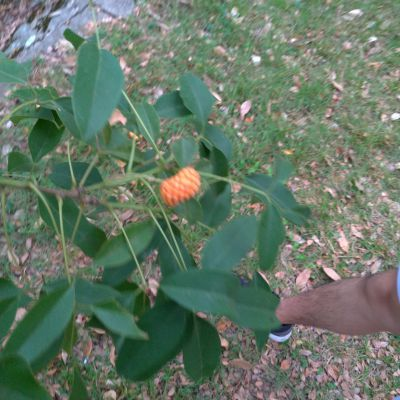eggs: (153, 163, 207, 206)
